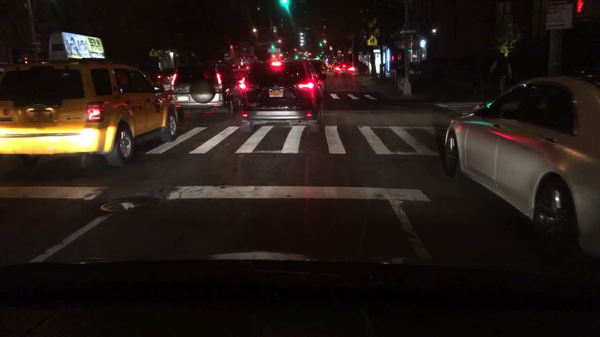car: (440, 67, 600, 253), (1, 28, 180, 170), (236, 58, 324, 135), (169, 61, 242, 118), (232, 66, 253, 93), (156, 69, 176, 93), (308, 59, 327, 77), (333, 62, 352, 77)
person: (394, 62, 405, 92)
traffic light: (574, 1, 584, 17), (279, 1, 290, 7), (269, 44, 275, 54), (317, 41, 323, 49), (294, 52, 299, 61)
traffic sign: (543, 3, 572, 30), (399, 29, 416, 36), (366, 36, 376, 46), (31, 48, 44, 53), (150, 48, 157, 57), (31, 40, 42, 45)
